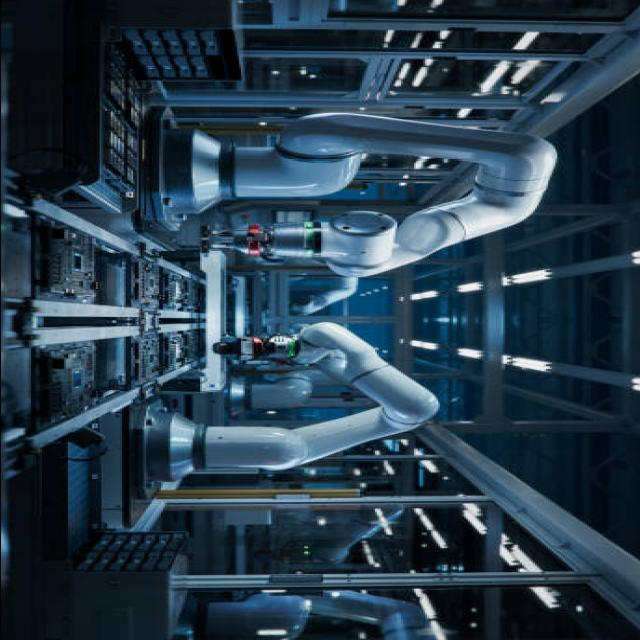Robotic-arm: (157, 105, 567, 279), (132, 318, 448, 484)
